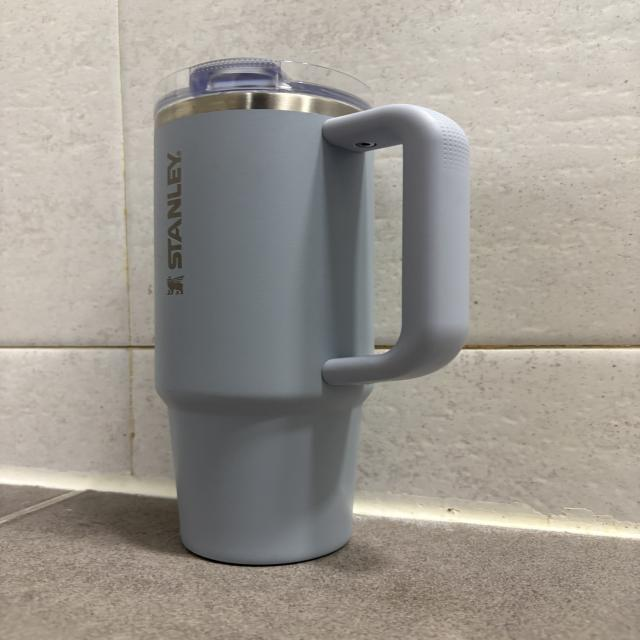waterbottle: (154, 57, 463, 565)
